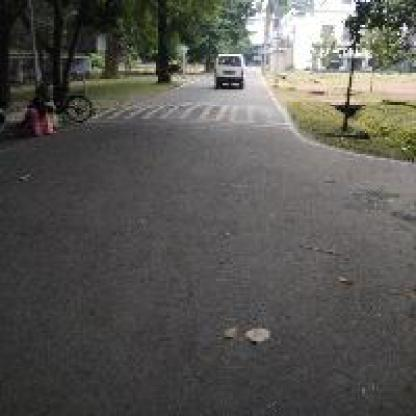Speed Bump: (92, 100, 294, 129)
